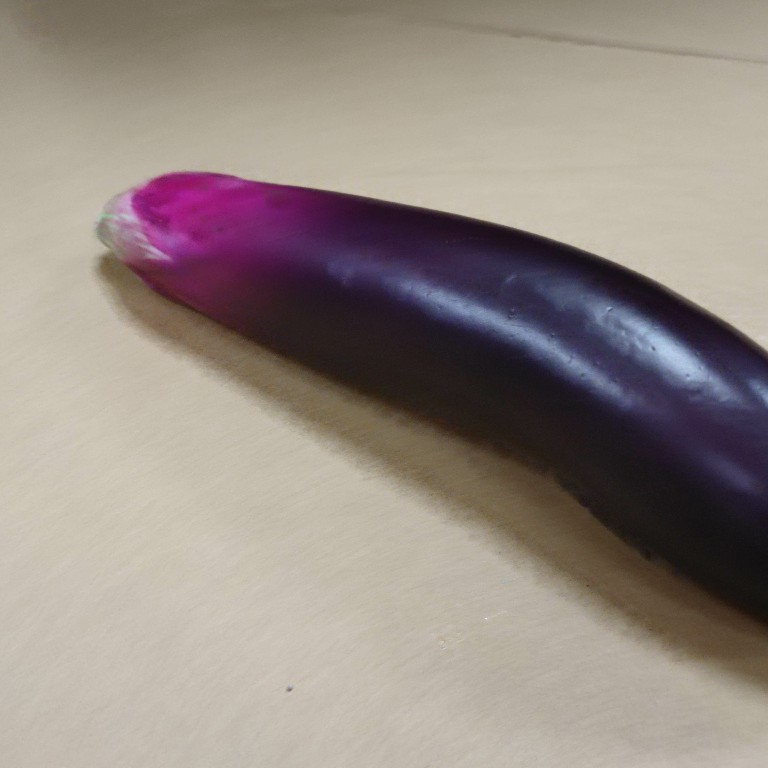fruit_eggplant: (91, 167, 768, 641)
